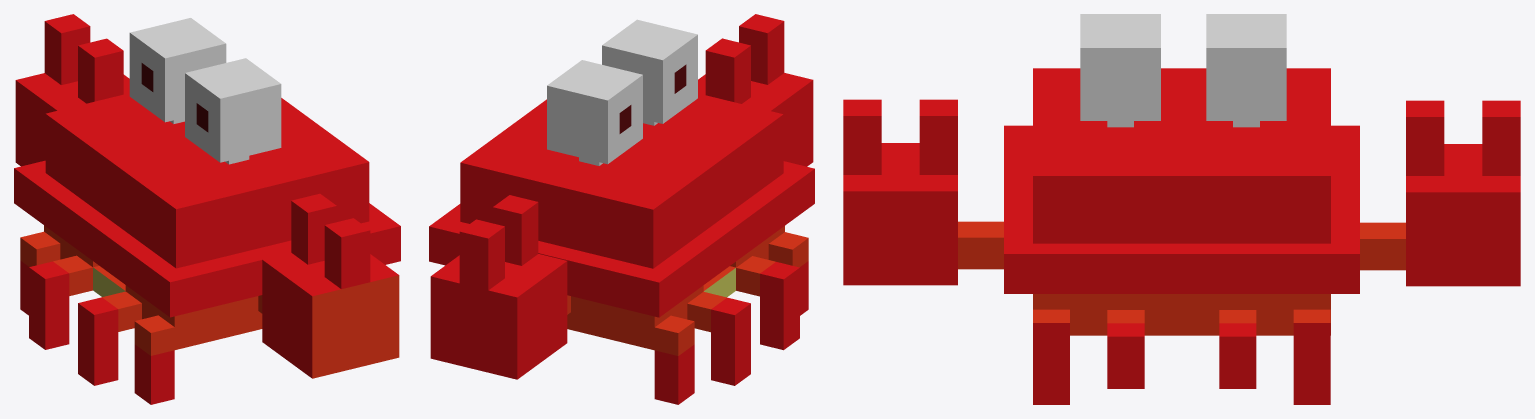
File: Crab 1.FBX
3 renders of one model, left to right at view 1: azimuth 30°, elevation 25°; view 2: azimuth 150°, elevation 25°; view 3: azimuth 270°, elevation 25°, orthographic. The views are drawn at different scales.
Visible parts, largest first — view 1: Head, LeftHand, TopBody, RightHand, LeftEye, RightEye, BottomBody, LeftLeg2, LeftLeg3, LeftLeg4, LeftLeg1; view 2: Head, RightHand, TopBody, LeftHand, RightEye, LeftEye, BottomBody, LeftLeg3, LeftLeg2, LeftLeg1, LeftLeg4; view 3: Head, TopBody, LeftHand, RightHand, RightEye, LeftEye, BottomBody, RightLeg1, RightLeg4, RightLeg3, RightLeg2.
Boxes of the visible parts, <box> form: Head: <box>45,93,369,268</box>; LeftHand: <box>258,193,399,378</box>; TopBody: <box>14,160,400,317</box>; RightHand: <box>15,14,129,166</box>; LeftEye: <box>185,58,281,164</box>; RightEye: <box>129,18,226,123</box>; BottomBody: <box>44,225,262,349</box>; LeftLeg2: <box>29,255,92,349</box>; LeftLeg3: <box>78,291,141,385</box>; LeftLeg4: <box>134,315,174,404</box>; LeftLeg1: <box>20,231,60,315</box>; Head: <box>460,93,783,268</box>; RightHand: <box>430,195,570,379</box>; TopBody: <box>429,161,814,317</box>; LeftHand: <box>698,14,813,166</box>; RightEye: <box>547,60,642,165</box>; LeftEye: <box>602,19,697,125</box>; BottomBody: <box>567,226,784,350</box>; LeftLeg3: <box>736,256,799,350</box>; LeftLeg2: <box>687,291,750,385</box>; LeftLeg1: <box>654,315,694,404</box>; LeftLeg4: <box>768,232,808,315</box>; Head: <box>1033,68,1330,243</box>; TopBody: <box>1004,125,1359,293</box>; LeftHand: <box>843,99,1003,285</box>; RightHand: <box>1360,100,1520,286</box>; RightEye: <box>1206,14,1286,127</box>; LeftEye: <box>1080,14,1160,127</box>; BottomBody: <box>1033,294,1330,335</box>; RightLeg1: <box>1293,309,1330,404</box>; RightLeg4: <box>1033,309,1069,404</box>; RightLeg3: <box>1107,310,1144,388</box>; RightLeg2: <box>1219,310,1256,388</box>.
Bounding box in the file's own units: 23.89 × 21.19 × 42.38.
